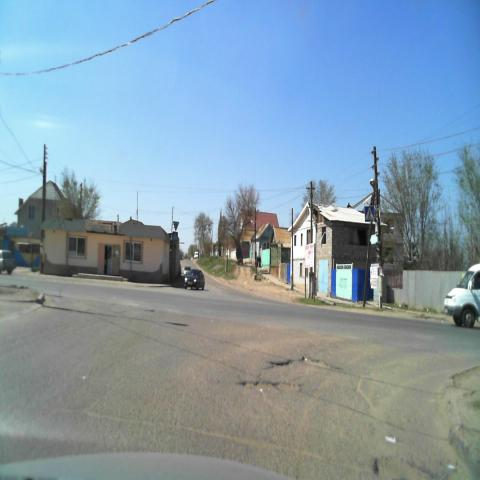5_19_1: (364, 202, 378, 222)
